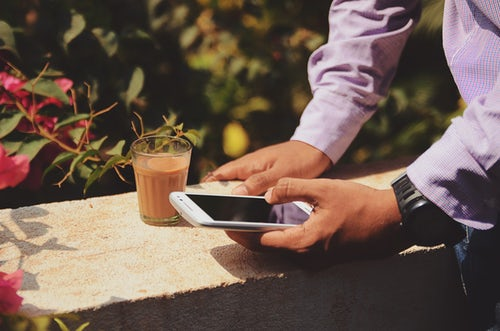phone: (166, 186, 321, 235)
